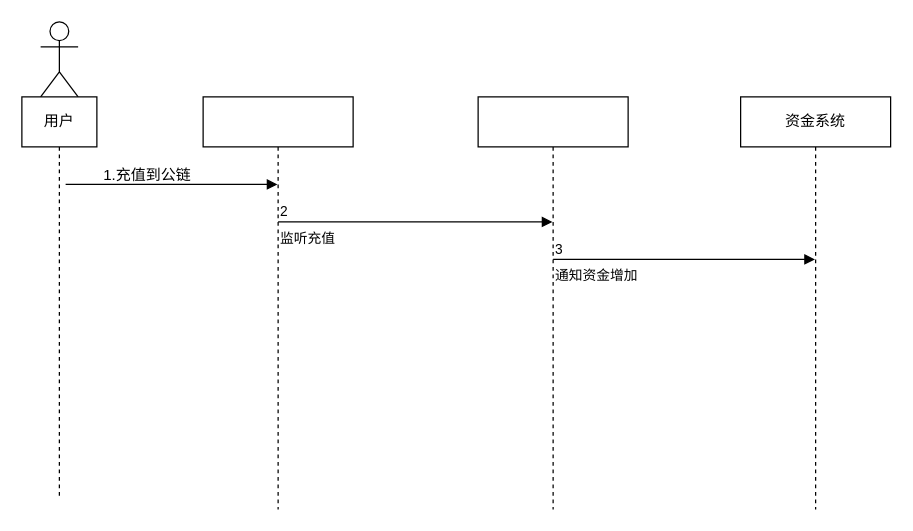
Some shapes in this 913 by 531 pixel diagram are drawn without their labels. Each missing label, with the box of its shape:
充值监听系统: (477, 96, 628, 509)
区块链/ETH/BSC/TRON: (202, 96, 353, 509)
